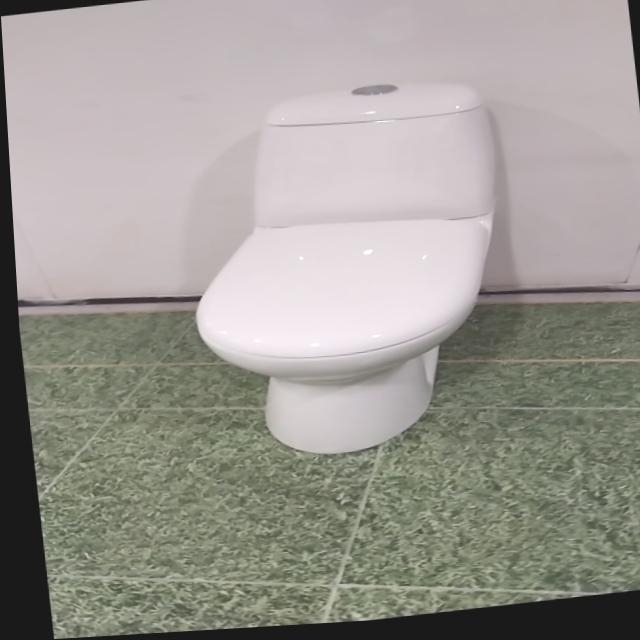toilet: (169, 77, 524, 472)
